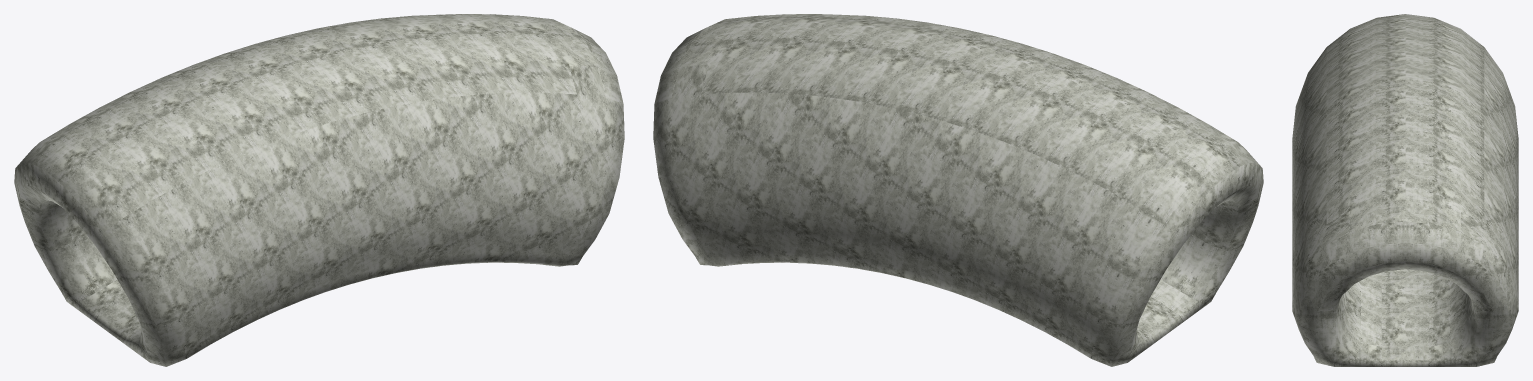
Rendered from tunnel.fbx.
3 renders of one model, left to right at view 1: azimuth 30°, elevation 25°; view 2: azimuth 150°, elevation 25°; view 3: azimuth 270°, elevation 25°, orthographic. The views are drawn at different scales.
Parts seen in each view (by area): view 1: Tunnel; view 2: Tunnel; view 3: Tunnel.
Part boxes in pixels (x1=…): Tunnel: x1=14, y1=14, x2=624, y2=366; Tunnel: x1=653, y1=14, x2=1263, y2=366; Tunnel: x1=1292, y1=14, x2=1518, y2=366.
Bounding box in the file's own units: 11.29 × 4.73 × 4.78.
1 material, 1 textured.
